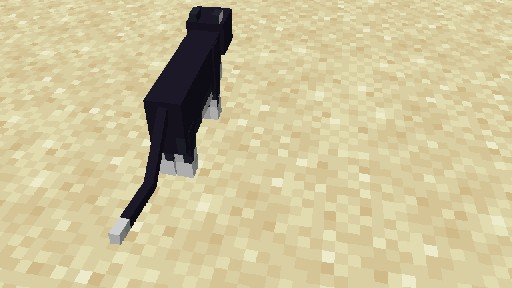cat: (107, 5, 233, 245)
